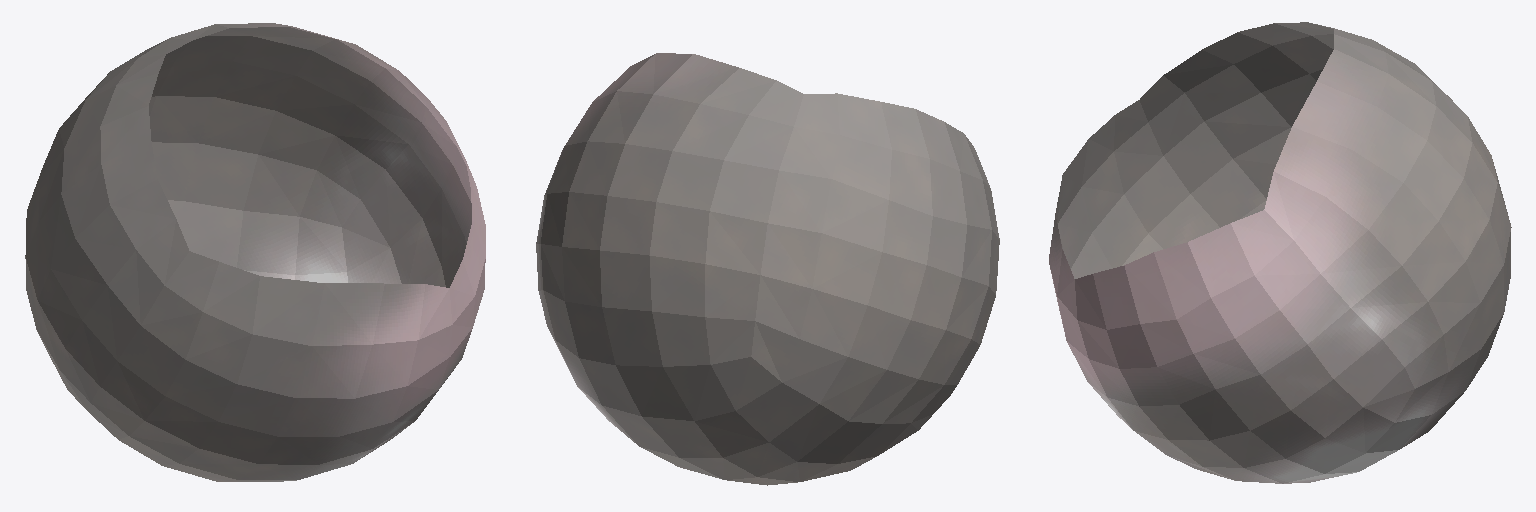
3 views of the same model, side by side, from view 1: azimuth 30°, elevation 25°; view 2: azimuth 150°, elevation 25°; view 3: azimuth 270°, elevation 25° (orthographic).
Parts seen in each view (by area): view 1: dynamic; view 2: dynamic; view 3: dynamic.
Boxes of the visible parts, <box> form: dynamic: <box>25,23,485,481</box>; dynamic: <box>536,53,999,485</box>; dynamic: <box>1049,22,1511,483</box>.
Size of the model in its own units: 0.9526 by 0.9477 by 0.9572.
Materials: 1 (1 with a texture image).